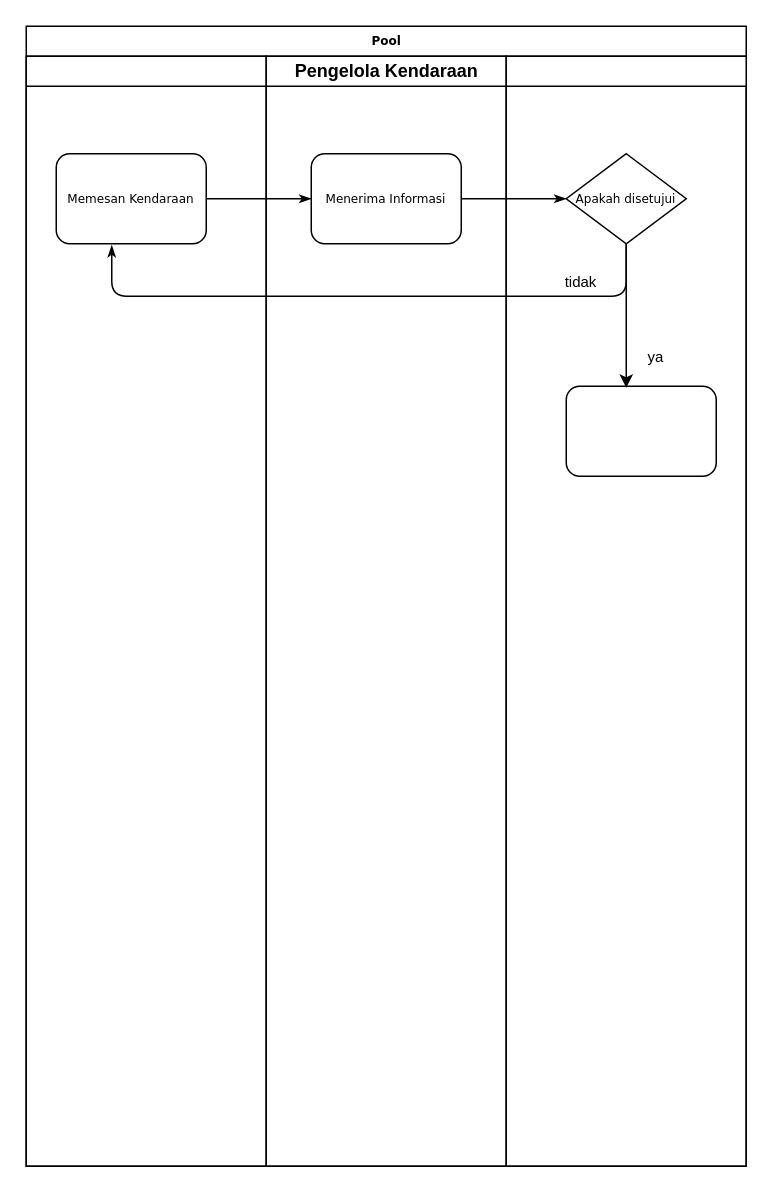
Image size: 773x1193. Some labels were removed from this diagram. The box of each missing label's shape, as (x1, y1, x2, y2) in pixels:
Atasan: (505, 55, 746, 1166)
Disetujui: (565, 385, 716, 476)
Pegawai: (25, 55, 266, 1166)
